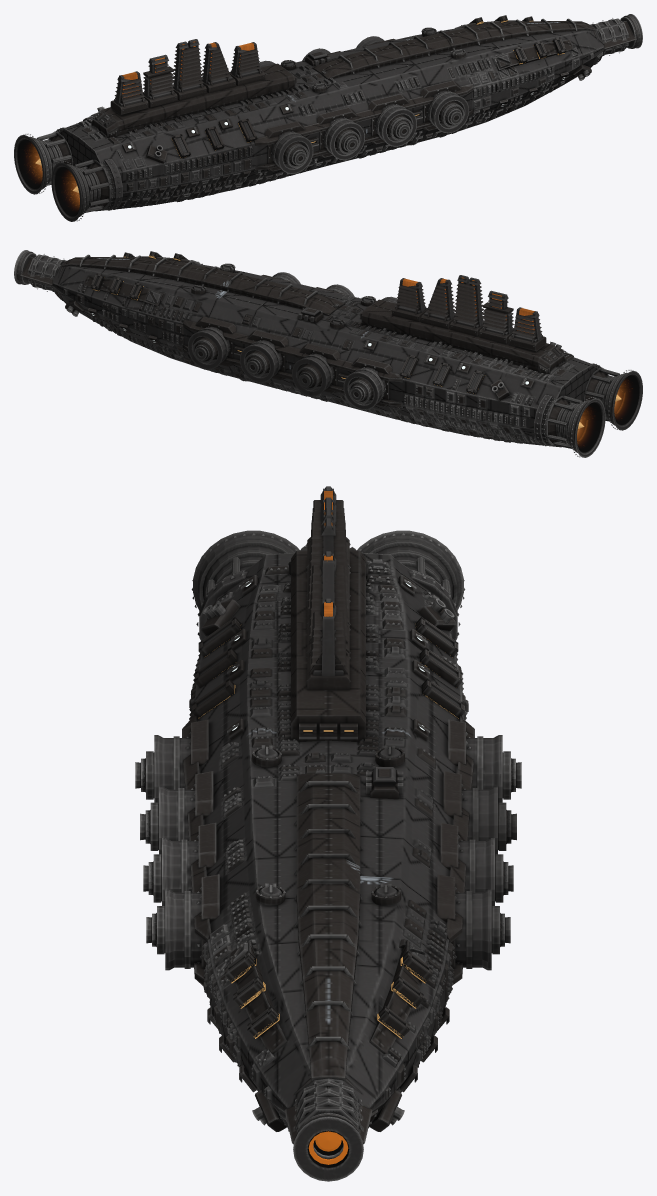
The picture shows the model from 3 angles, top to bottom: view 1: azimuth 30°, elevation 25°; view 2: azimuth 150°, elevation 25°; view 3: azimuth 270°, elevation 25°; orthographic projection. The views are drawn at different scales.
Visible parts, largest first — view 1: V16_37; view 2: V16_37; view 3: V16_37.
Boxes of the visible parts, x1,y1,x2,y2 form: V16_37: (14,14,642,221); V16_37: (14,250,642,457); V16_37: (135,486,521,1181).
Bounding box in the file's own units: 1 × 0.2426 × 0.2851.
17 materials, 3 textured.
